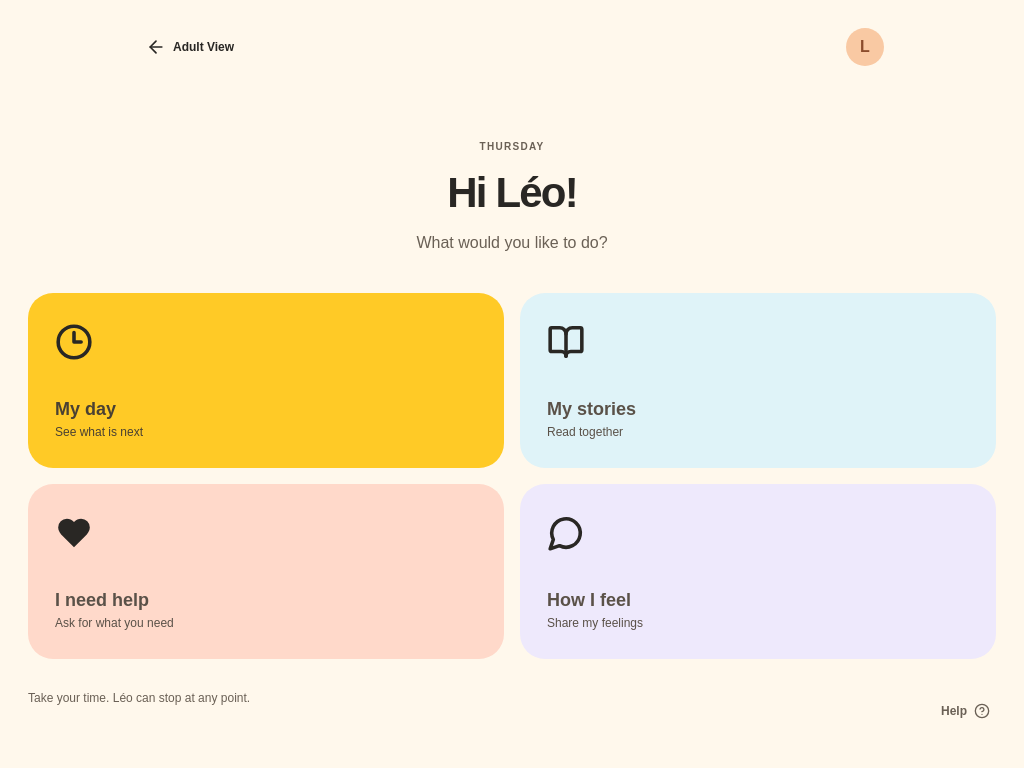
it: the request confirmation flow › only says "arrived" after the backend confirms, and never says it was seen
Check: the heading "Hi Léo!" is shown, box [447,169,577,216]
What coordinates should you click on to do the following:
click the button "I need help Ask for what you need"
I would click on:
 (74, 533)
Its box is [28,484,504,659].
(page scrolled)
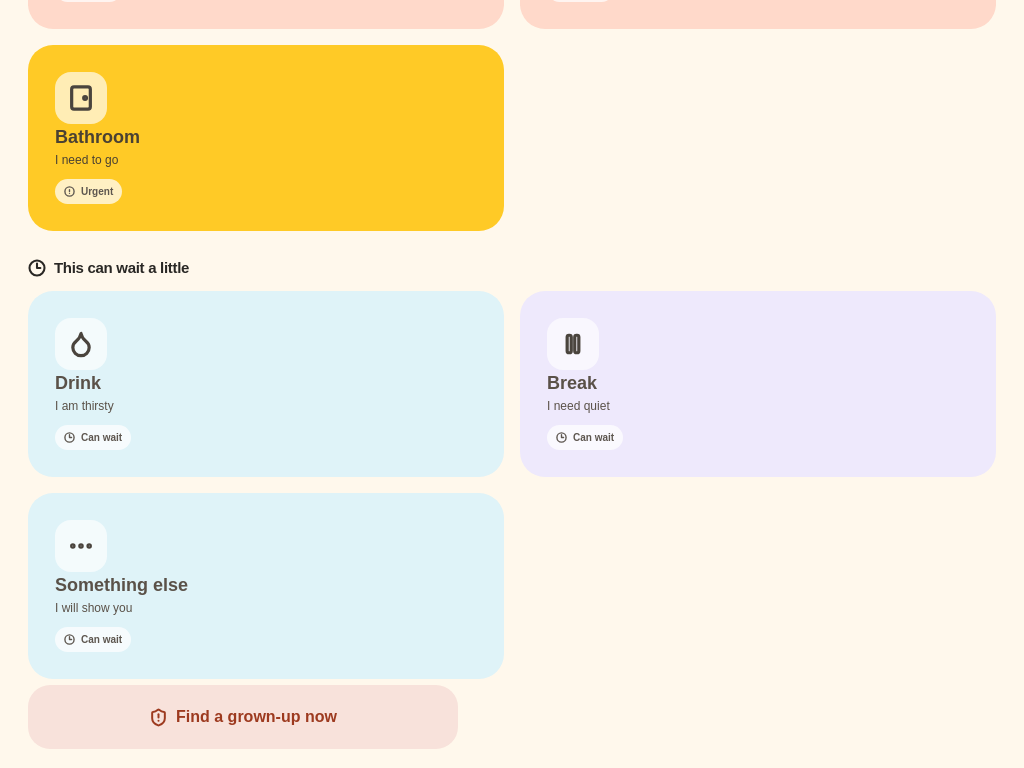
What coordinates should you click on to do the following:
click the button "Drink I am thirsty Can wait"
I would click on:
 (81, 344)
Its box is [28,291,504,477].
(page scrolled)
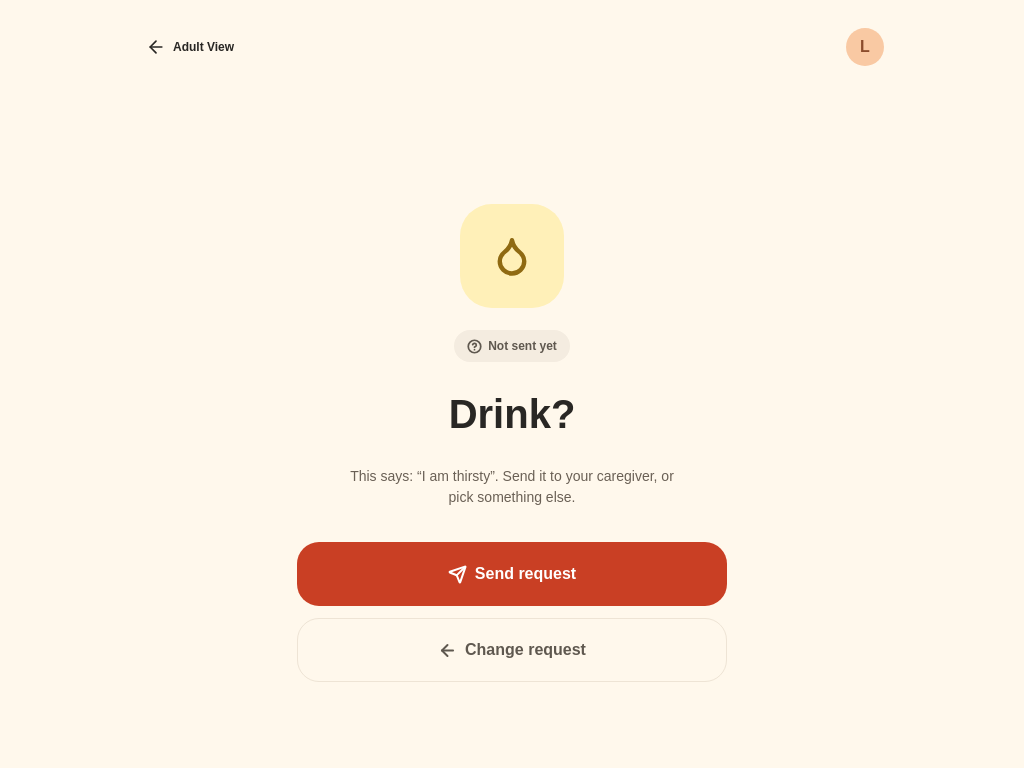
Check: the button "Send request" is shown
What coordinates should you click on to do the following:
click the button "Send request"
I would click on:
 (512, 574)
Its box is [297,542,727,606].
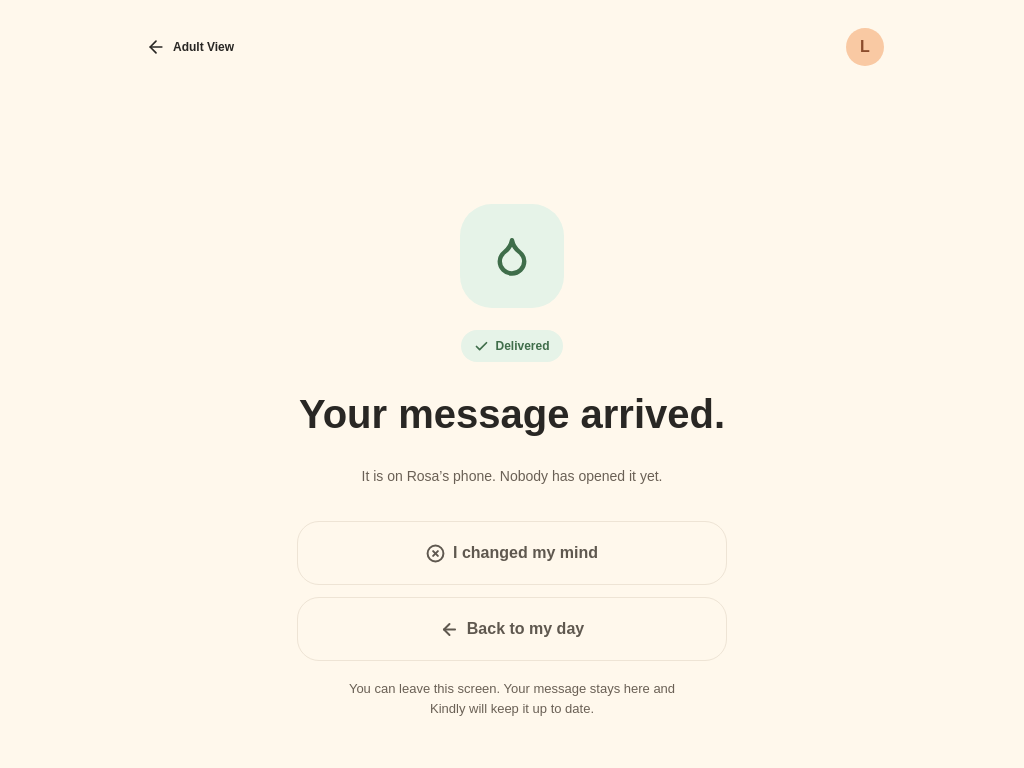
Check: the heading "Your message arrived." is shown, box [299,384,725,444]
Check: the text "It is on Rosa’s phone. Nobody has opened it yet." is shown, box [362,466,662,487]
